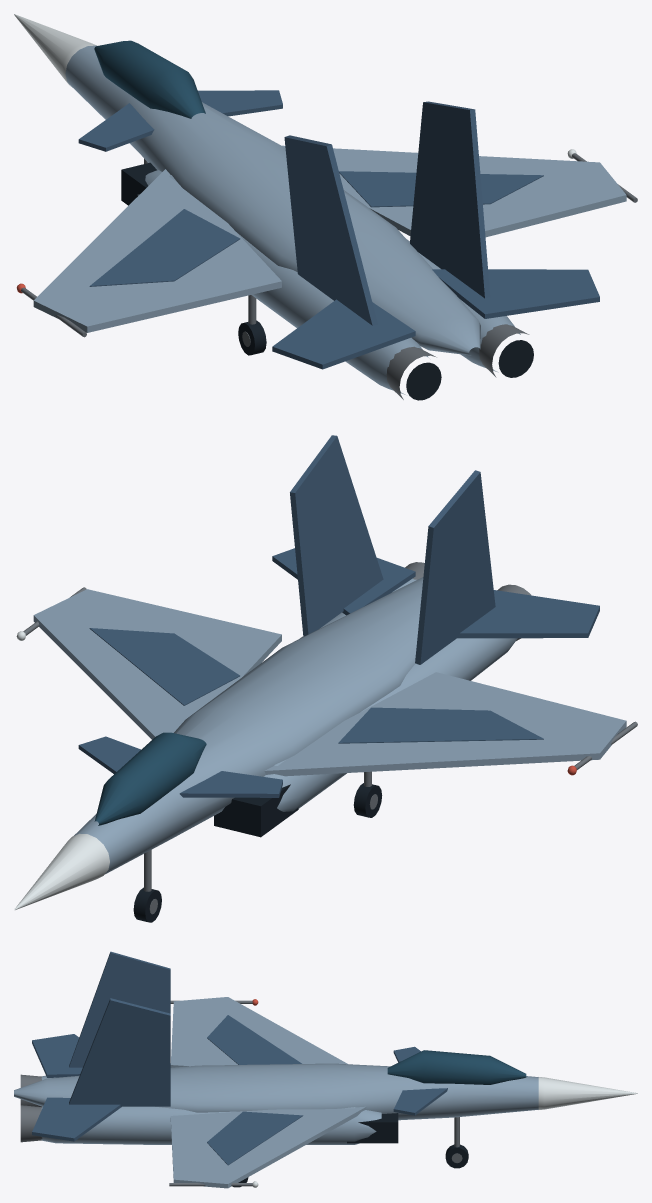
The picture shows the model from 3 angles, top to bottom: view 1: azimuth 30°, elevation 25°; view 2: azimuth 150°, elevation 25°; view 3: azimuth 270°, elevation 25°; orthographic projection. The views are drawn at different scales.
Parts seen in each view (by area): view 1: Su-30 original low-poly interpretation, landing-gear; view 2: Su-30 original low-poly interpretation, landing-gear; view 3: Su-30 original low-poly interpretation, landing-gear.
Part boxes in pixels (box(x1,y1,x2,y2)): Su-30 original low-poly interpretation: box(14, 14, 637, 400); landing-gear: box(144, 158, 266, 355); Su-30 original low-poly interpretation: box(14, 435, 637, 909); landing-gear: box(133, 771, 382, 922); Su-30 original low-poly interpretation: box(14, 951, 637, 1188); landing-gear: box(232, 1117, 468, 1187).
Size of the model in its own units: 14.7 by 6.96 by 20.7.
